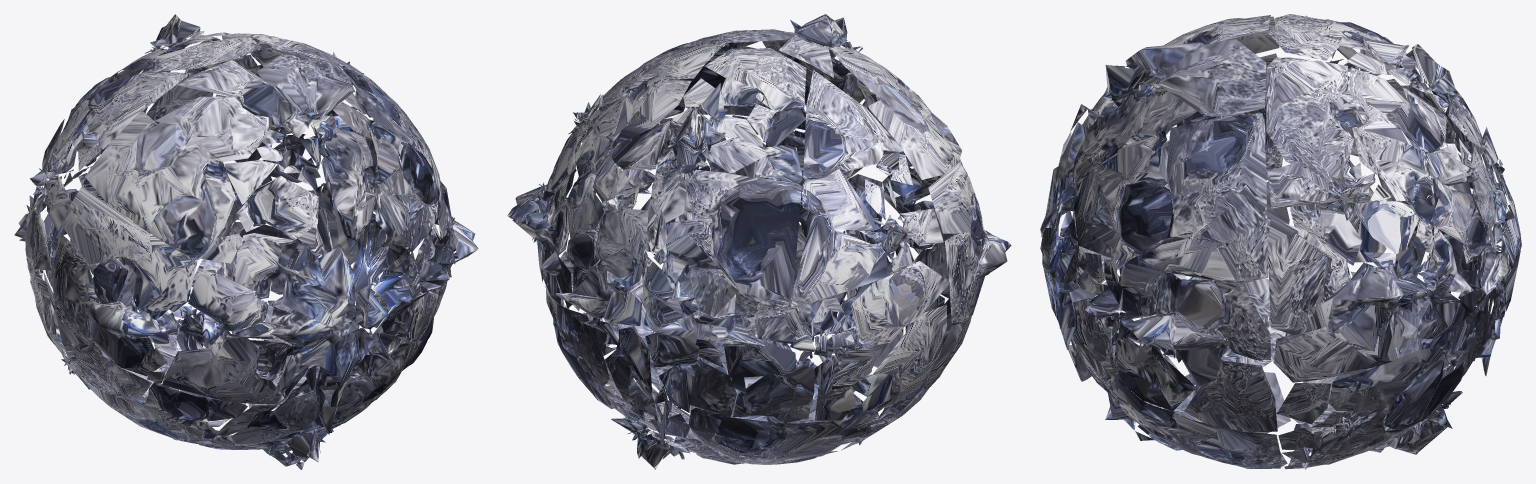
File: MAHWORLD_OVERSIZED_MOON_L0.glb
The picture shows the model from 3 angles, left to right: view 1: azimuth 30°, elevation 25°; view 2: azimuth 150°, elevation 25°; view 3: azimuth 270°, elevation 25°; orthographic projection. The views are drawn at different scales.
Parts seen in each view (by area): view 1: MAHWORLD_OVERSIZED_MOON_L0; view 2: MAHWORLD_OVERSIZED_MOON_L0; view 3: MAHWORLD_OVERSIZED_MOON_L0.
Boxes of the visible parts, left/top/right/bottom form: MAHWORLD_OVERSIZED_MOON_L0: left=14, top=14, right=478, bottom=469; MAHWORLD_OVERSIZED_MOON_L0: left=507, top=14, right=1011, bottom=469; MAHWORLD_OVERSIZED_MOON_L0: left=1040, top=14, right=1521, bottom=469.
Bounding box in the file's own units: 0.9529 × 0.9216 × 0.969.
Materials: 1 (1 with a texture image).
